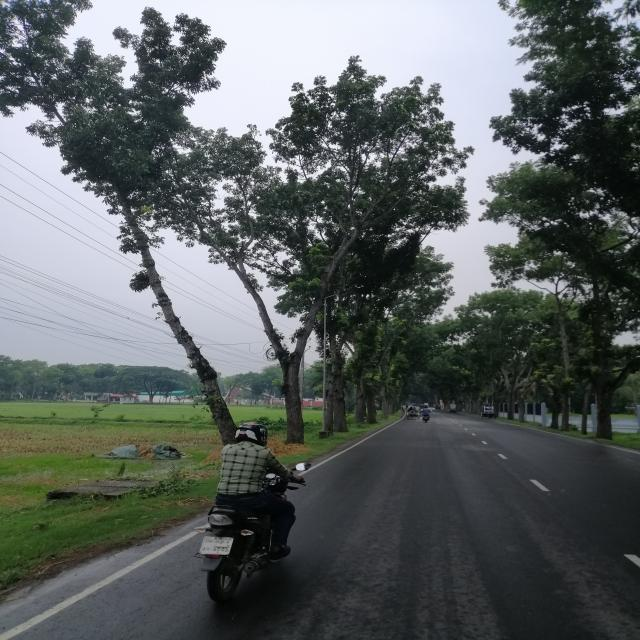Motorbike: (140, 456, 326, 611)
